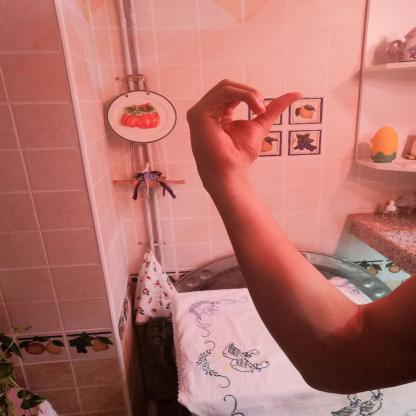WAW: (169, 70, 315, 188)
